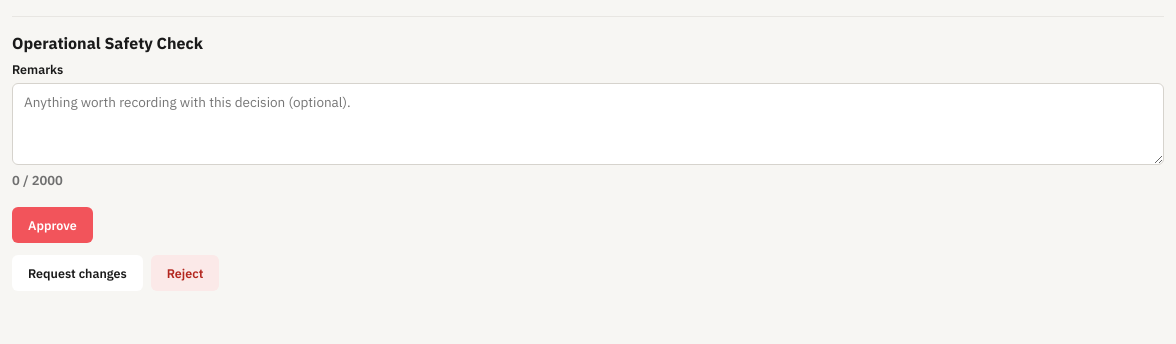
Test case: the confirm button is disabled while the approval is in flight
The width and height of the screenshot is (1176, 344).
Click the button "Approve". click: click(52, 225)
box: x1=12 y1=207 x2=93 y2=243
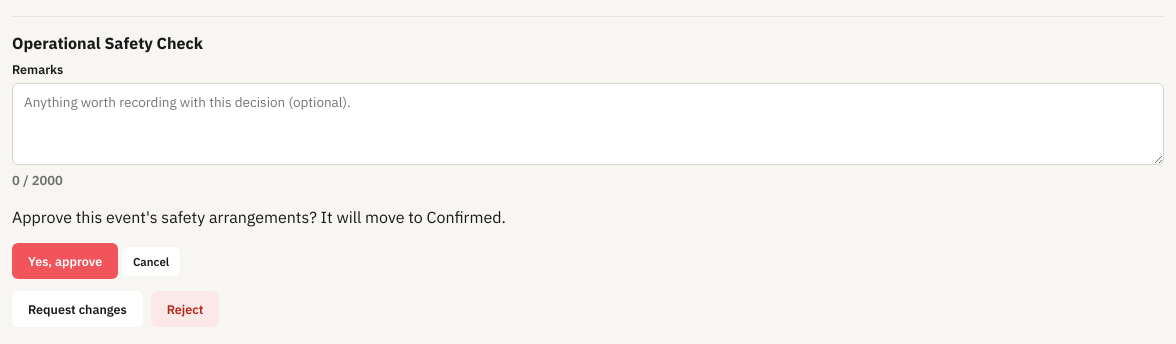
Click the button "Yes, approve". click: click(65, 261)
box: x1=12 y1=243 x2=118 y2=279
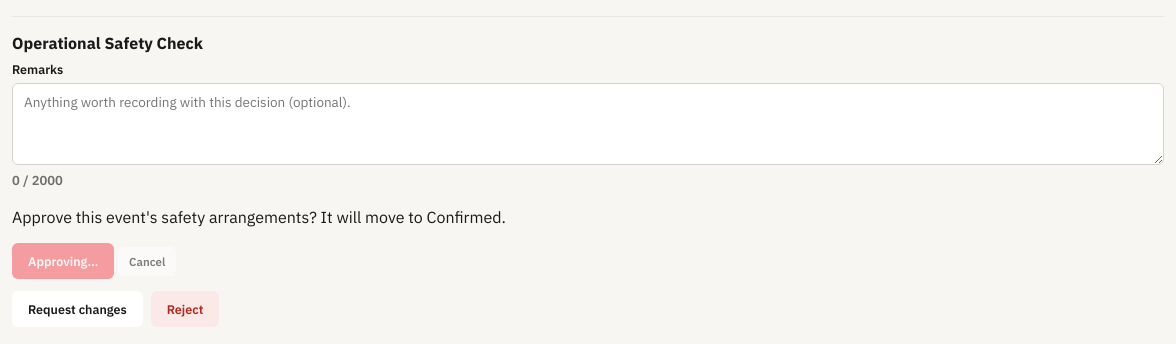
Check: the button "Approving…" is disabled, box x1=12 y1=243 x2=114 y2=279
